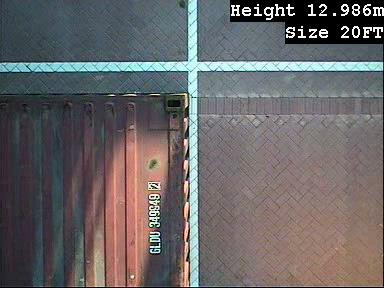groundmarker_2: (1, 93, 110, 172)
